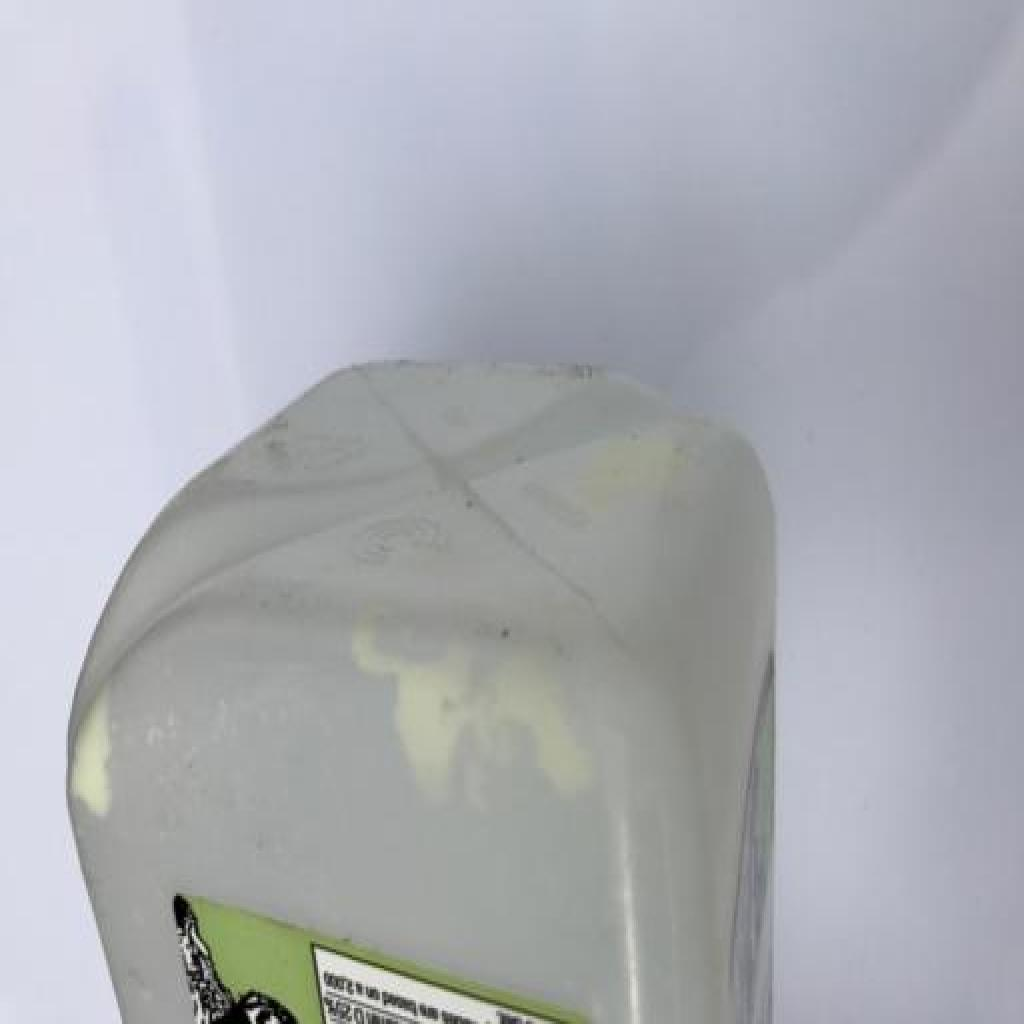plastic: (48, 332, 810, 1024)
